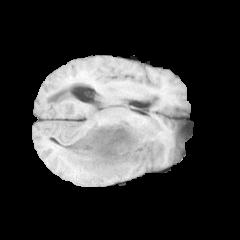glioma: (56, 122, 153, 182)
